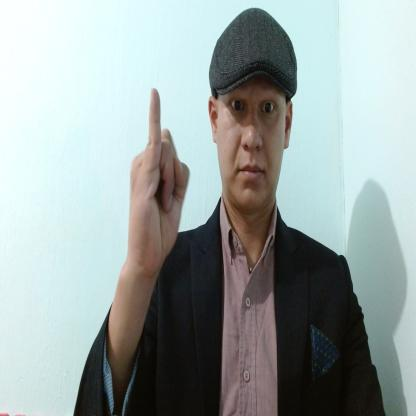I: (127, 84, 191, 268)
